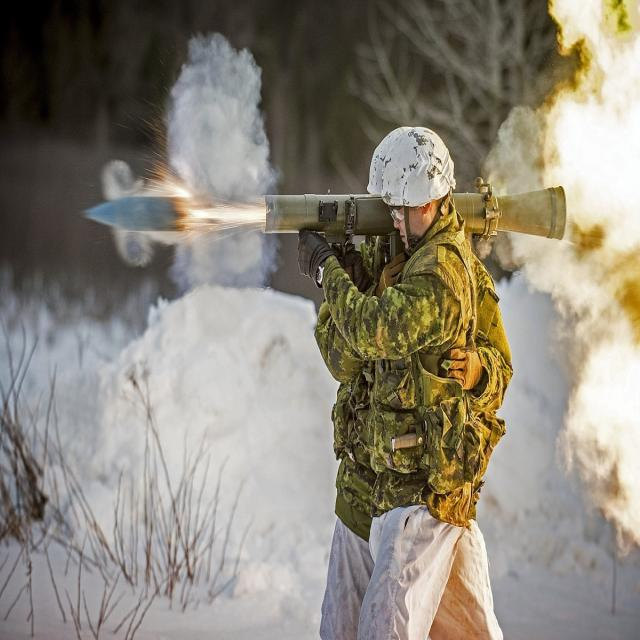bazooka: (52, 100, 600, 304)
